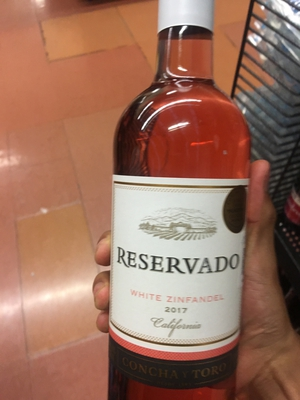reservado white zinfandel: (106, 12, 249, 385)
